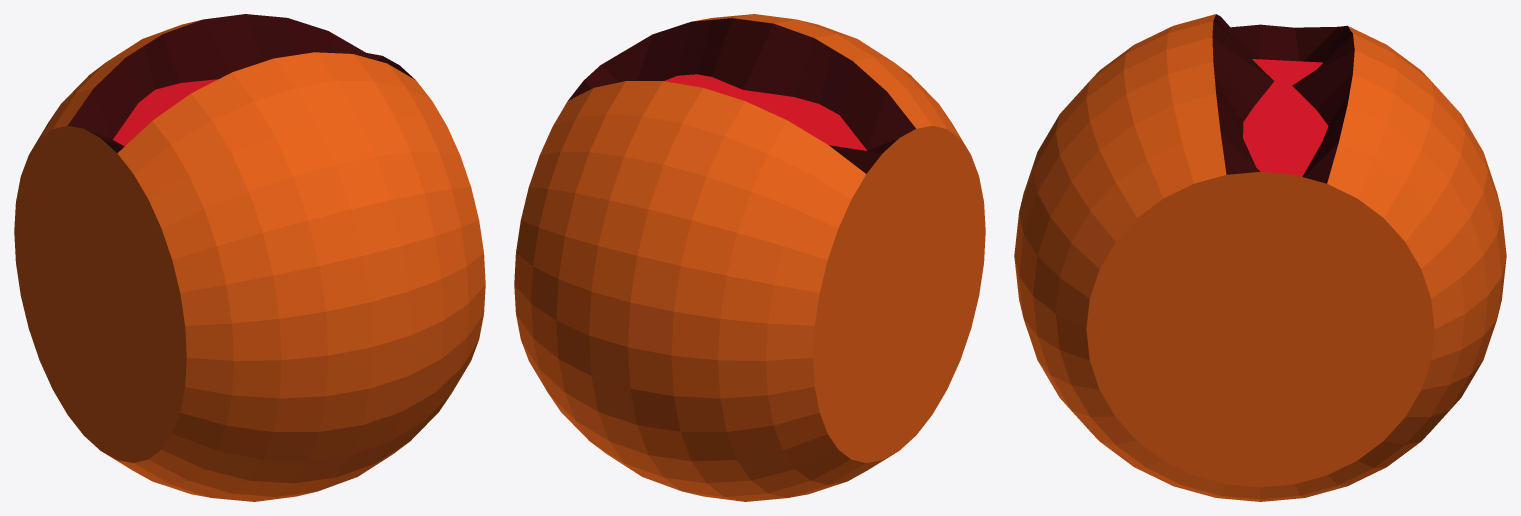
Rendered from RoundHead.fbx.
3 views of the same model, side by side, from view 1: azimuth 30°, elevation 25°; view 2: azimuth 150°, elevation 25°; view 3: azimuth 270°, elevation 25° (orthographic).
Parts seen in each view (by area): view 1: Sphere; view 2: Sphere; view 3: Sphere.
Boxes of the visible parts, x1,y1,x2,y2 form: Sphere: (14,14,485,501); Sphere: (514,14,985,501); Sphere: (1014,14,1506,501).
Bounding box in the file's own units: 141 × 198 × 200.
